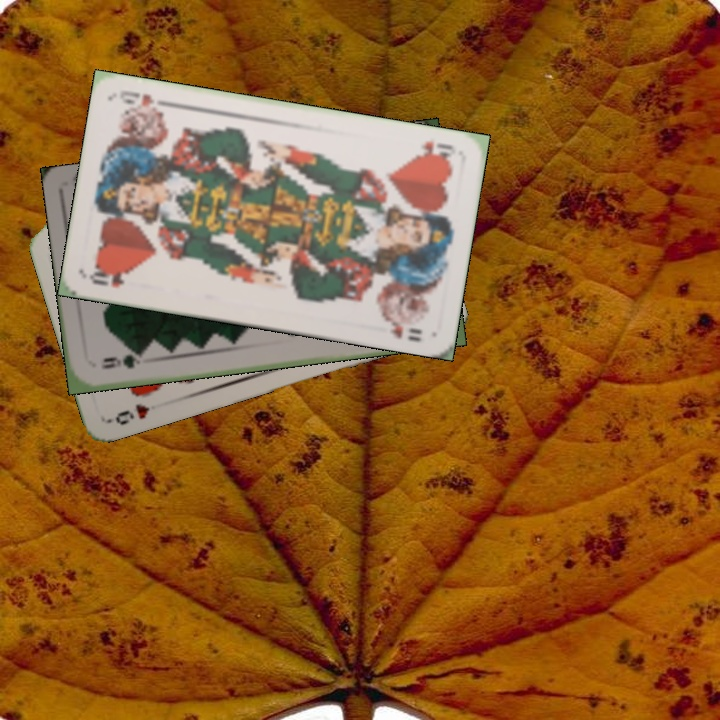G9: (97, 349, 147, 372)
H9: (111, 400, 152, 428)
HO: (411, 136, 458, 163), (85, 265, 133, 291)
